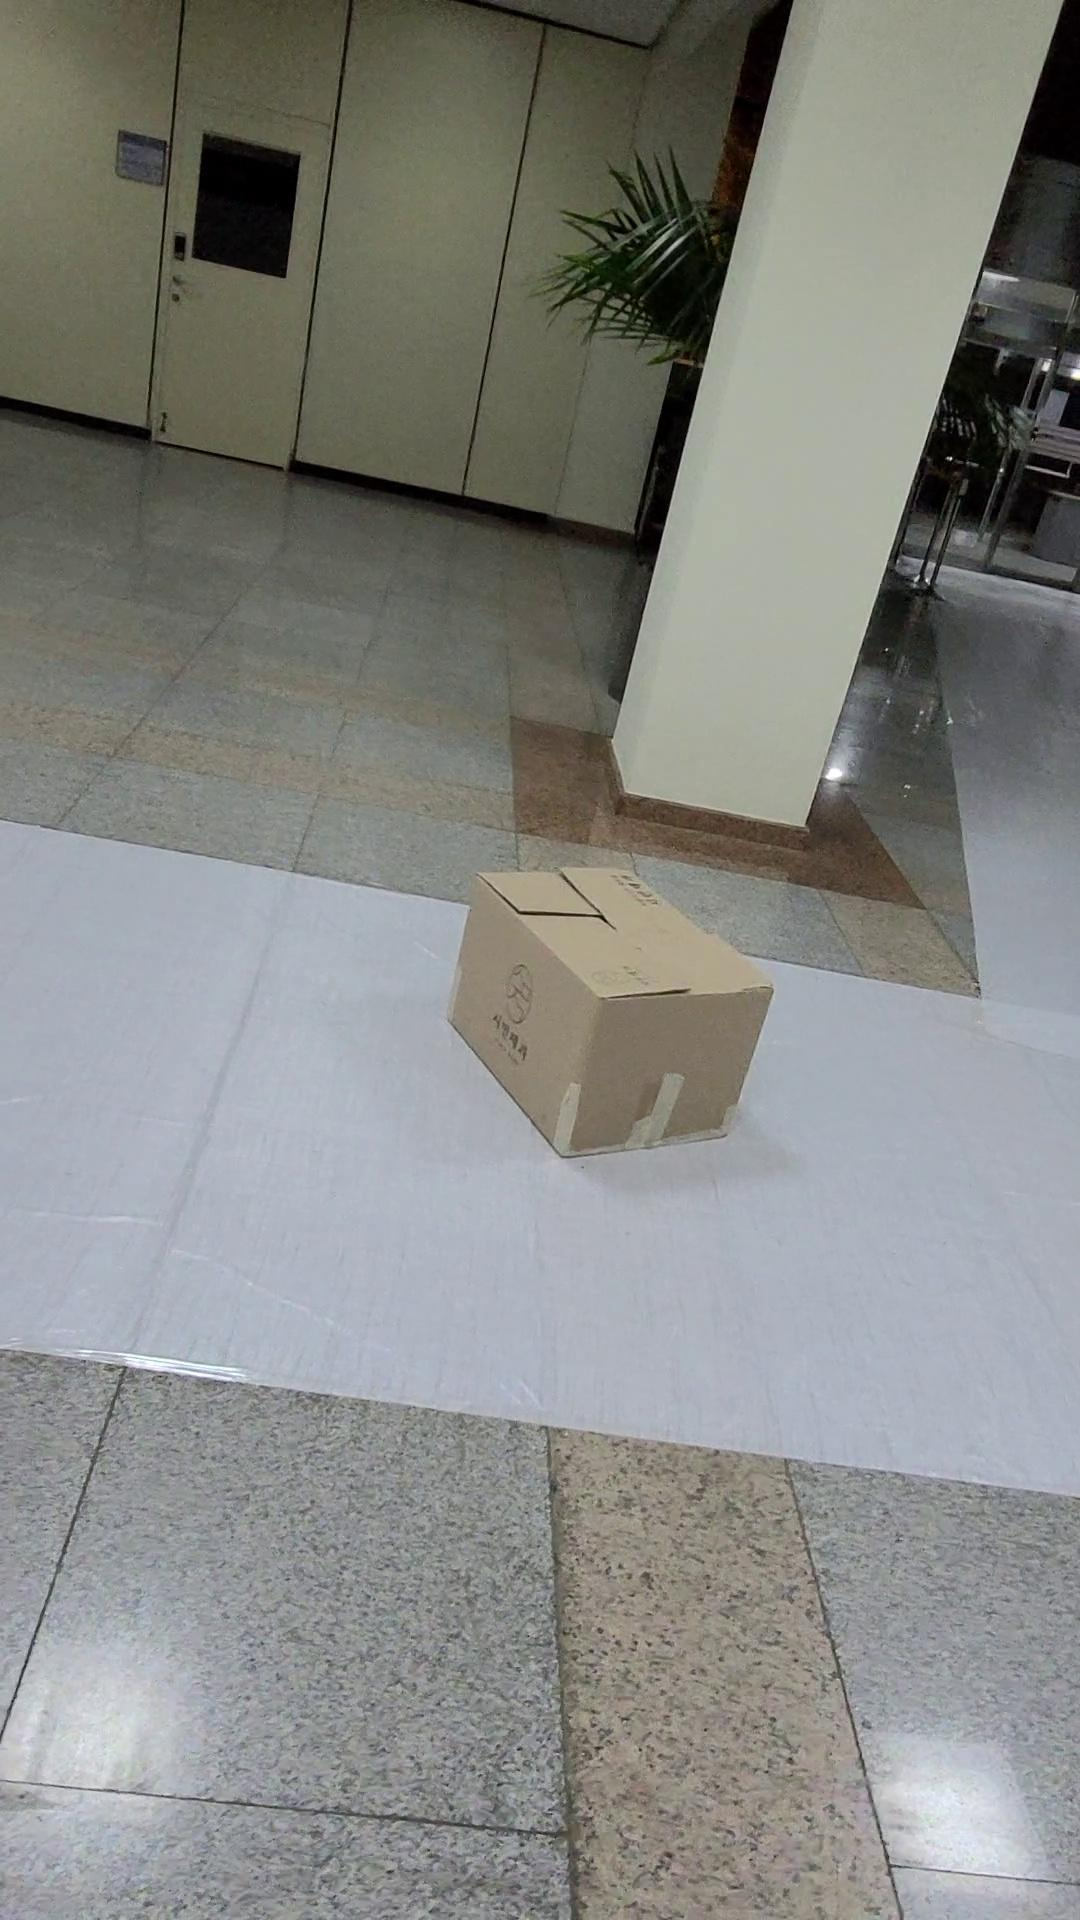Box: (446, 848, 800, 1213)
